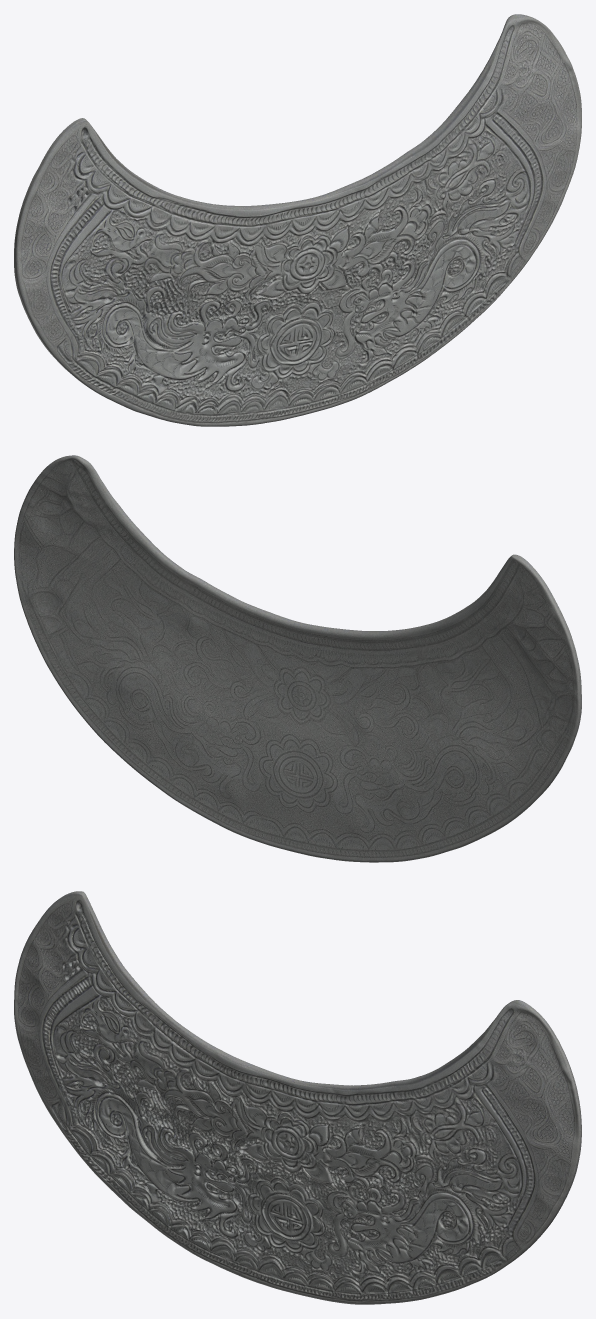
Rendered from engraved-dragon.glb.
3 views of the same model, one above another, from view 1: azimuth 30°, elevation 25°; view 2: azimuth 150°, elevation 25°; view 3: azimuth 330°, elevation 25° (orthographic).
Bounding box in the file's own units: 1.9 × 1.12 × 0.0882.
Materials: 1 (1 with a texture image).
